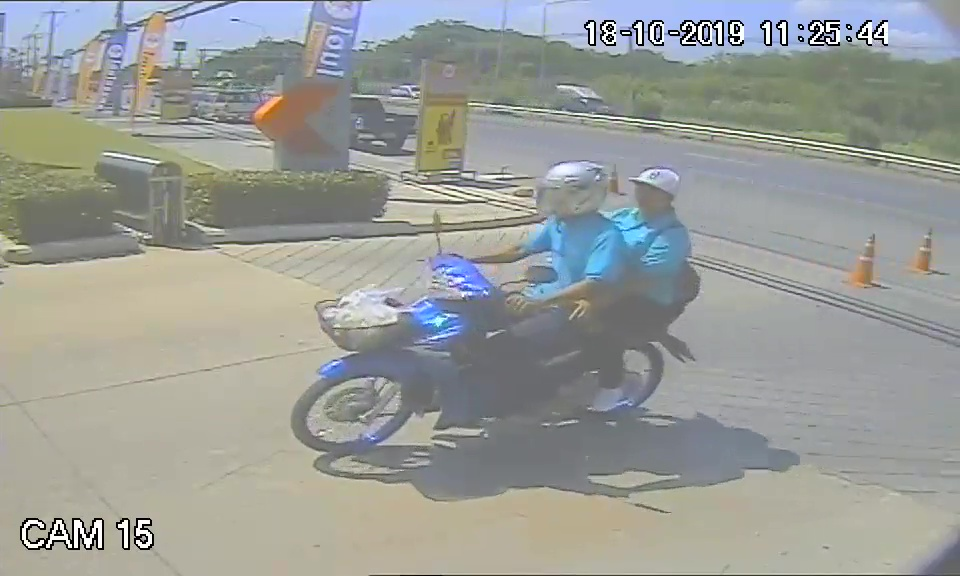motorcycle: (289, 247, 705, 457)
